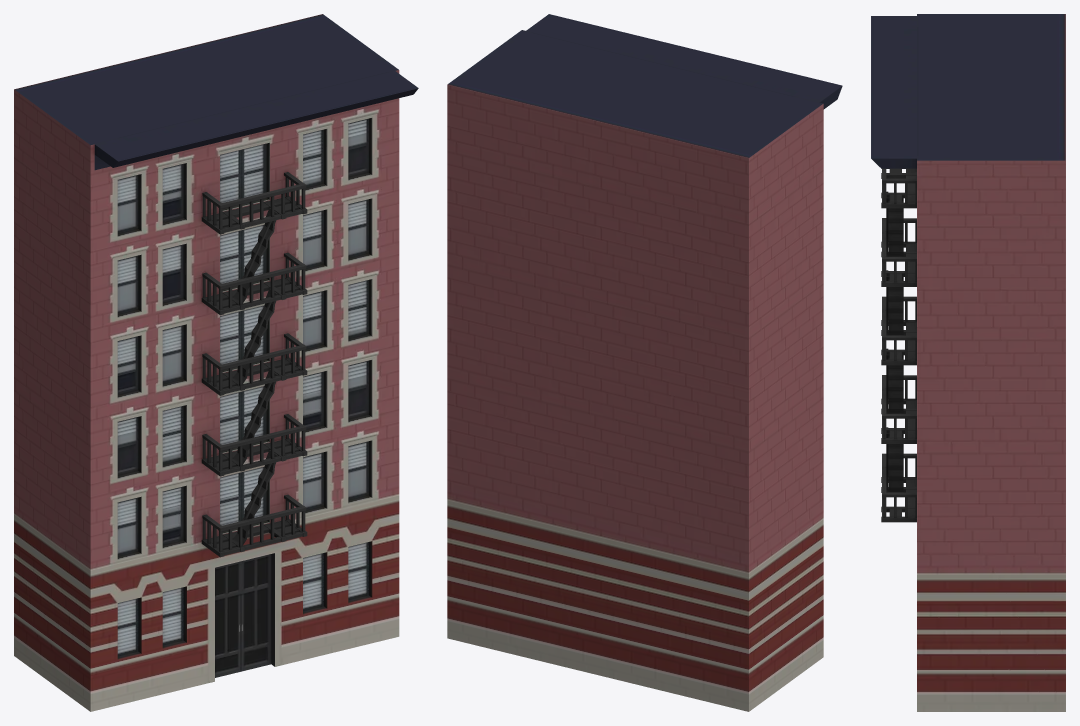
File: apartment.glb
3 views of the same model, side by side, from view 1: azimuth 30°, elevation 25°; view 2: azimuth 150°, elevation 25°; view 3: azimuth 270°, elevation 25° (orthographic). The views are drawn at different scales.
Parts seen in each view (by area): view 1: Apartment_mesh; view 2: Apartment_mesh; view 3: Apartment_mesh.
Part boxes in pixels (x1,y1,x2,y2): Apartment_mesh: (14, 14, 418, 711); Apartment_mesh: (447, 14, 842, 711); Apartment_mesh: (871, 14, 1065, 711).
Size of the model in its own units: 10.32 by 18.1 by 5.79.
1 material, 1 textured.
